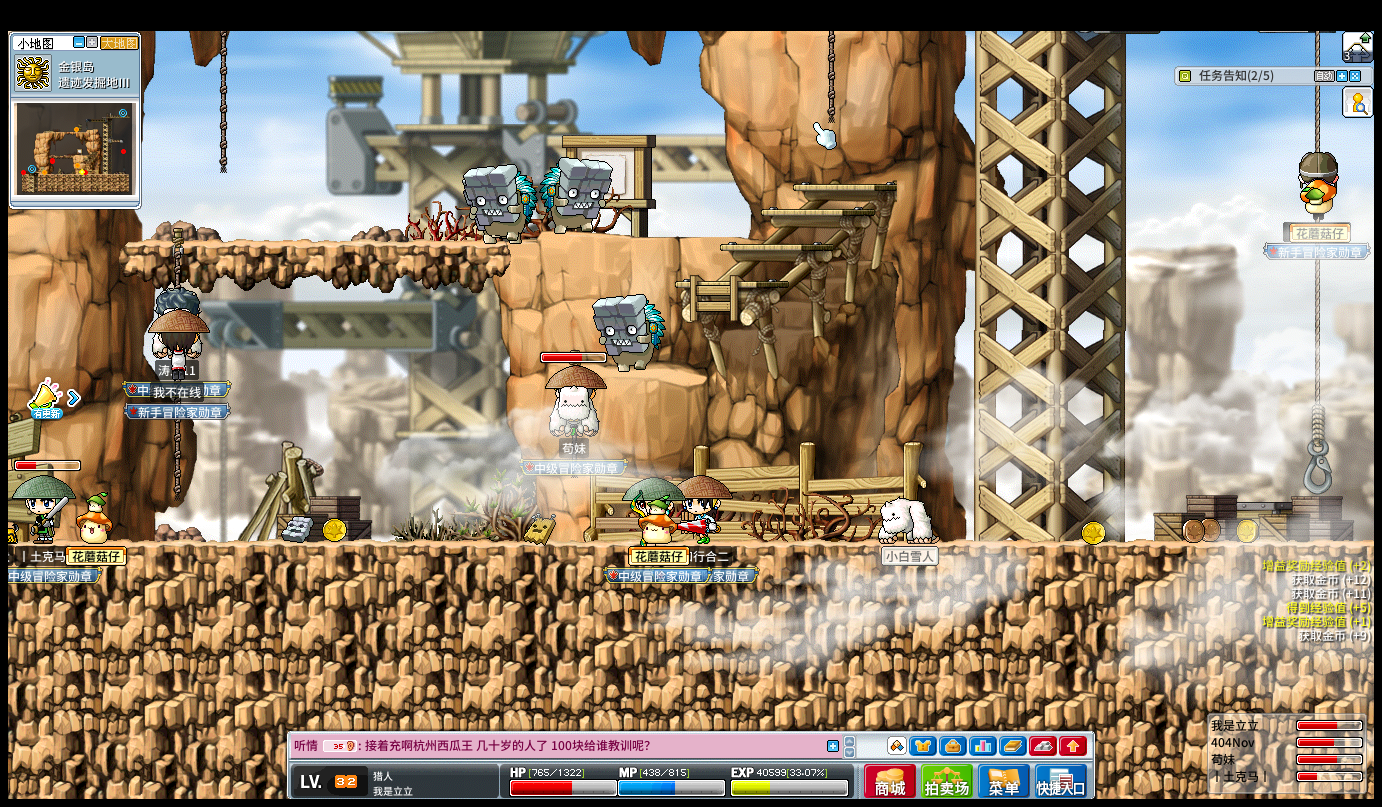floor: (9, 536, 1373, 558), (121, 236, 510, 249), (585, 365, 709, 388), (551, 233, 757, 243), (572, 232, 756, 241), (671, 278, 788, 287), (761, 207, 873, 215), (791, 184, 896, 192), (721, 243, 841, 250)
monster: (591, 295, 665, 373), (463, 163, 534, 244), (540, 157, 611, 234)
rope: (215, 31, 227, 170), (1312, 259, 1321, 414), (826, 31, 837, 123), (1313, 28, 1321, 148), (171, 420, 181, 508), (171, 223, 182, 291), (1310, 403, 1324, 442)
